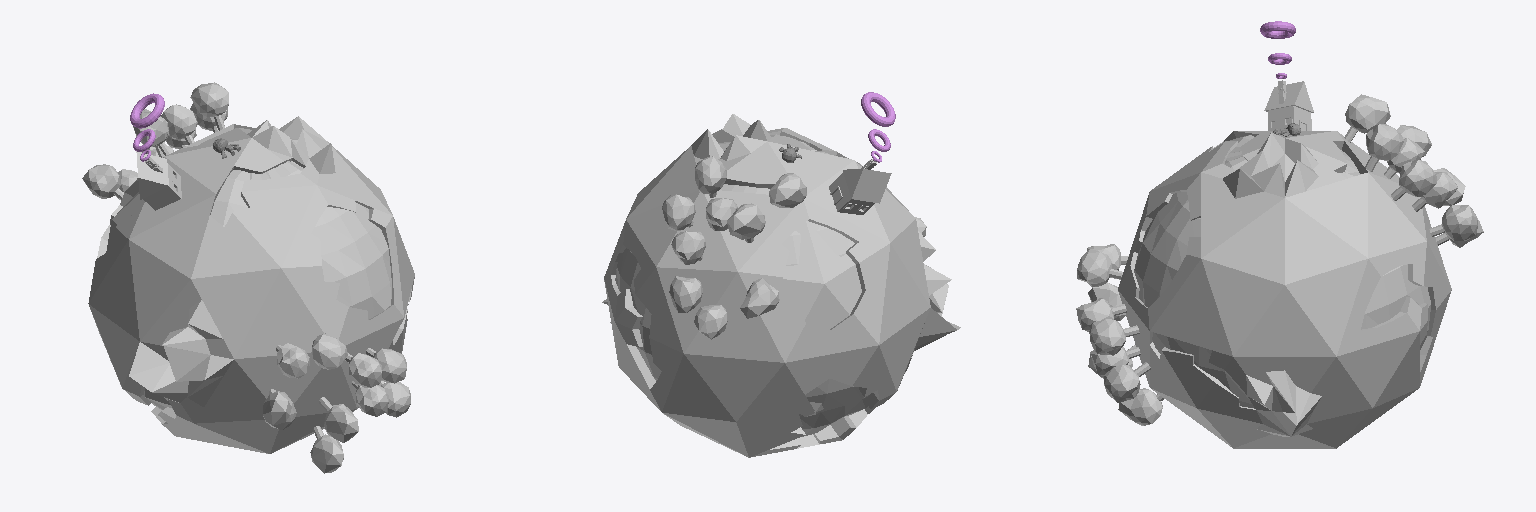
The model's file is littlebigplanetworld.obj.
3 views of the same model, side by side, from view 1: azimuth 30°, elevation 25°; view 2: azimuth 150°, elevation 25°; view 3: azimuth 270°, elevation 25° (orthographic).
Visible parts, largest first — view 1: Icosphere, Sphere, Icosphere_004, Icosphere_011, Icosphere_017, Cylinder_001, Icosphere_016, Icosphere_008, Icosphere_014, Icosphere_012, Icosphere_018, Icosphere_006 (+5 smaller); view 2: Icosphere, Sphere, Cylinder_001, Icosphere_008, Icosphere_002, Icosphere_005, Icosphere_004, Icosphere_007, Icosphere_001, Icosphere_003, Icosphere_009, Cube (+2 smaller); view 3: Icosphere, Sphere, Icosphere_005, Icosphere_014, Icosphere_010, Icosphere_001, Icosphere_004, Icosphere_007, Icosphere_013, Icosphere_016, Cube, Cylinder_001 (+6 smaller).
Part boxes in pixels (left/top/right/bottom): Icosphere: left=88, top=116, right=414, bottom=453; Sphere: left=131, top=161, right=391, bottom=409; Icosphere_004: left=190, top=82, right=228, bottom=116; Icosphere_011: left=324, top=404, right=358, bottom=442; Icosphere_017: left=263, top=391, right=296, bottom=429; Cylinder_001: left=136, top=151, right=168, bottom=199; Icosphere_016: left=312, top=333, right=347, bottom=369; Icosphere_008: left=82, top=164, right=120, bottom=198; Icosphere_014: left=310, top=434, right=343, bottom=473; Icosphere_012: left=349, top=353, right=381, bottom=387; Icosphere_018: left=277, top=343, right=309, bottom=378; Icosphere_006: left=161, top=104, right=197, bottom=138; Icosphere: left=602, top=114, right=960, bottom=457; Sphere: left=615, top=136, right=868, bottom=436; Cylinder_001: left=843, top=169, right=891, bottom=203; Icosphere_008: left=740, top=278, right=779, bottom=318; Icosphere_002: left=727, top=203, right=765, bottom=239; Icosphere_005: left=769, top=173, right=806, bottom=207; Icosphere_004: left=695, top=156, right=726, bottom=193; Icosphere_007: left=669, top=276, right=702, bottom=312; Icosphere_001: left=662, top=194, right=695, bottom=230; Icosphere_003: left=671, top=231, right=705, bottom=264; Icosphere_009: left=694, top=305, right=728, bottom=339; Cube: left=829, top=173, right=874, bottom=214; Icosphere: left=1118, top=131, right=1451, bottom=448; Sphere: left=1134, top=135, right=1430, bottom=408; Icosphere_005: left=1345, top=94, right=1390, bottom=133; Icosphere_014: left=1118, top=388, right=1162, bottom=425; Icosphere_010: left=1089, top=319, right=1125, bottom=355; Icosphere_001: left=1399, top=160, right=1436, bottom=196; Icosphere_004: left=1366, top=124, right=1403, bottom=160; Icosphere_007: left=1442, top=205, right=1477, bottom=240; Icosphere_013: left=1104, top=365, right=1140, bottom=402; Icosphere_016: left=1077, top=249, right=1111, bottom=287; Cube: left=1268, top=106, right=1311, bottom=130; Cylinder_001: left=1264, top=81, right=1313, bottom=112.
Size of the model in its own units: 917 by 1028 by 1022.